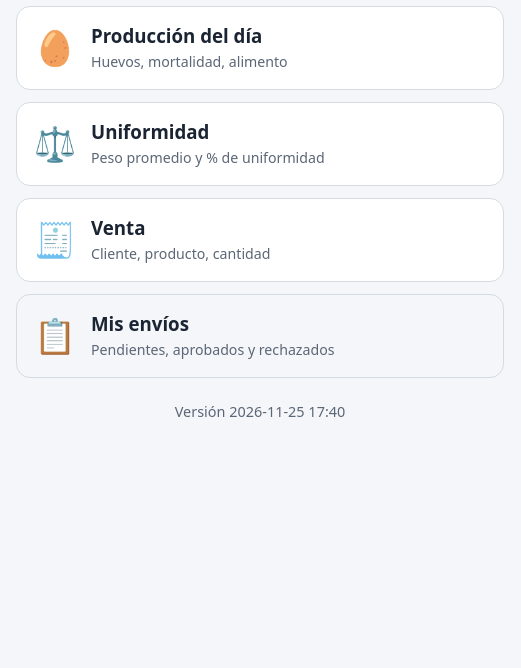
Test case: no envía si los dañados superan el total
The image size is (521, 668).
Click the button "Producción del día" at (260, 48), box [16, 6, 504, 90]
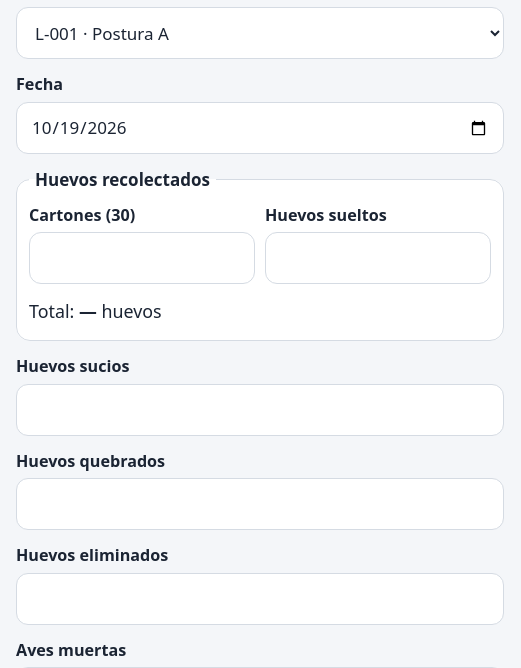
Type "5" into the field labelled "Huevos sueltos" at (378, 258), box [265, 232, 491, 284]
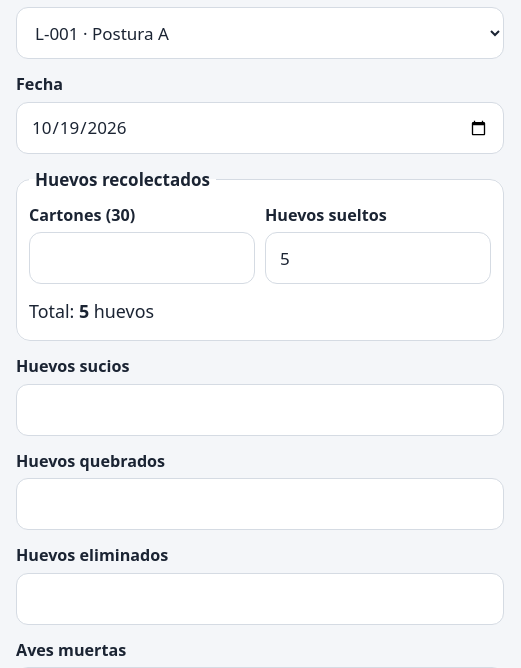
Type "10" into the field labelled "Huevos quebrados" at (260, 504), box [16, 478, 504, 530]
(page scrolled)
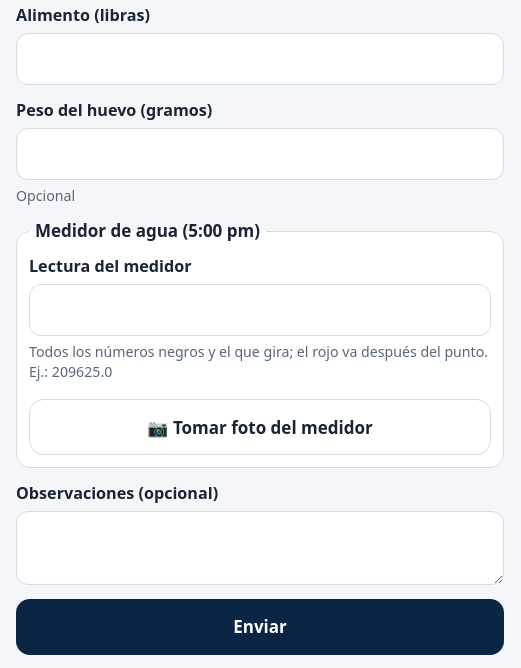
Click the button "Enviar" at (260, 627), box [16, 599, 504, 655]
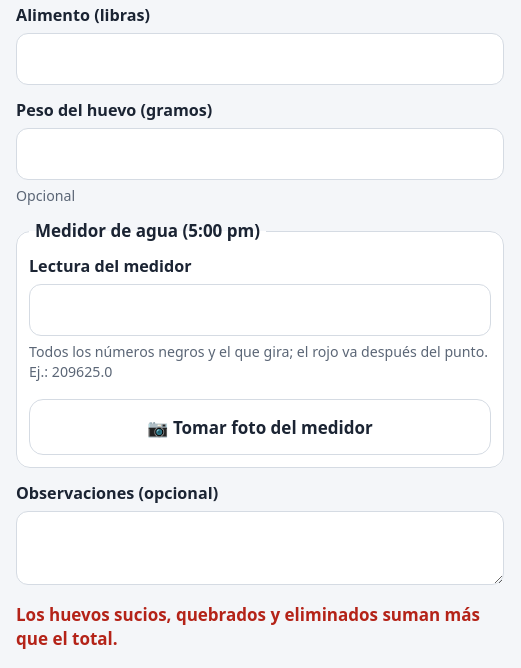
Now the text "suman más que el total" is shown, box [16, 603, 480, 650]
